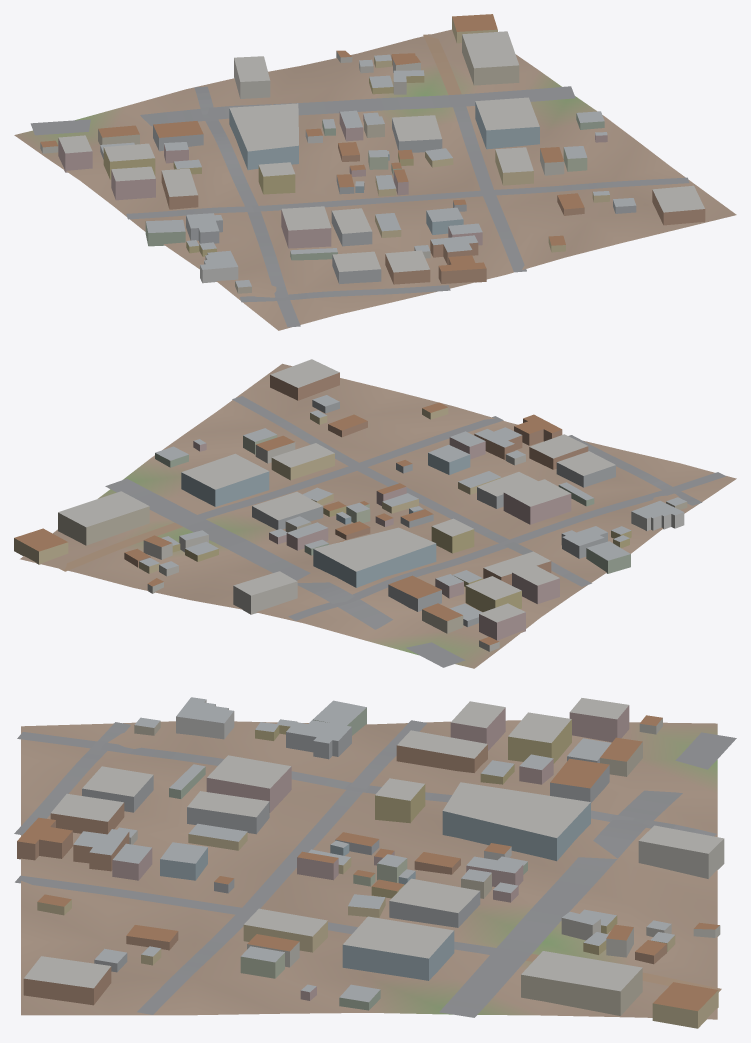
3 renders of one model, top to bottom at view 1: azimuth 30°, elevation 25°; view 2: azimuth 150°, elevation 25°; view 3: azimuth 270°, elevation 25°, orthographic. The views are drawn at different scales.
Visible parts, largest first — view 1: Lo; view 2: Lo; view 3: Lo.
Boxes of the visible parts, box(x1,y1,x2,y2) form: Lo: box(14, 14, 736, 330); Lo: box(14, 359, 736, 668); Lo: box(14, 697, 736, 1028).
Size of the model in its own units: 270 by 13.08 by 266.
